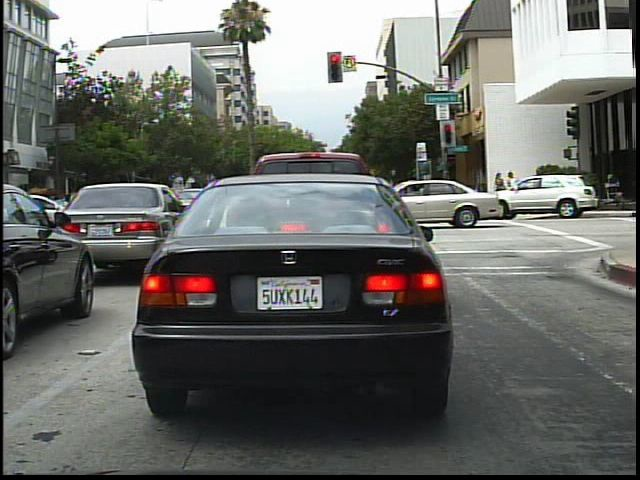person: (488, 168, 508, 211), (504, 166, 522, 209)
